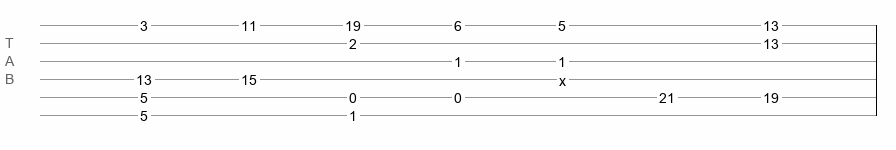0: (349, 90, 357, 100), (454, 90, 462, 100)
1: (349, 108, 357, 118), (454, 54, 462, 64), (558, 54, 566, 64)
11: (241, 18, 257, 28)
13: (136, 72, 152, 82), (763, 36, 779, 46), (763, 18, 779, 28)
15: (241, 72, 257, 82)
19: (345, 18, 361, 28), (763, 90, 779, 100)
2: (349, 36, 357, 46)
21: (659, 90, 675, 100)
3: (140, 18, 148, 28)
5: (140, 90, 148, 100), (140, 108, 148, 118), (558, 18, 566, 28)
6: (454, 18, 462, 28)
x: (559, 73, 566, 81)
